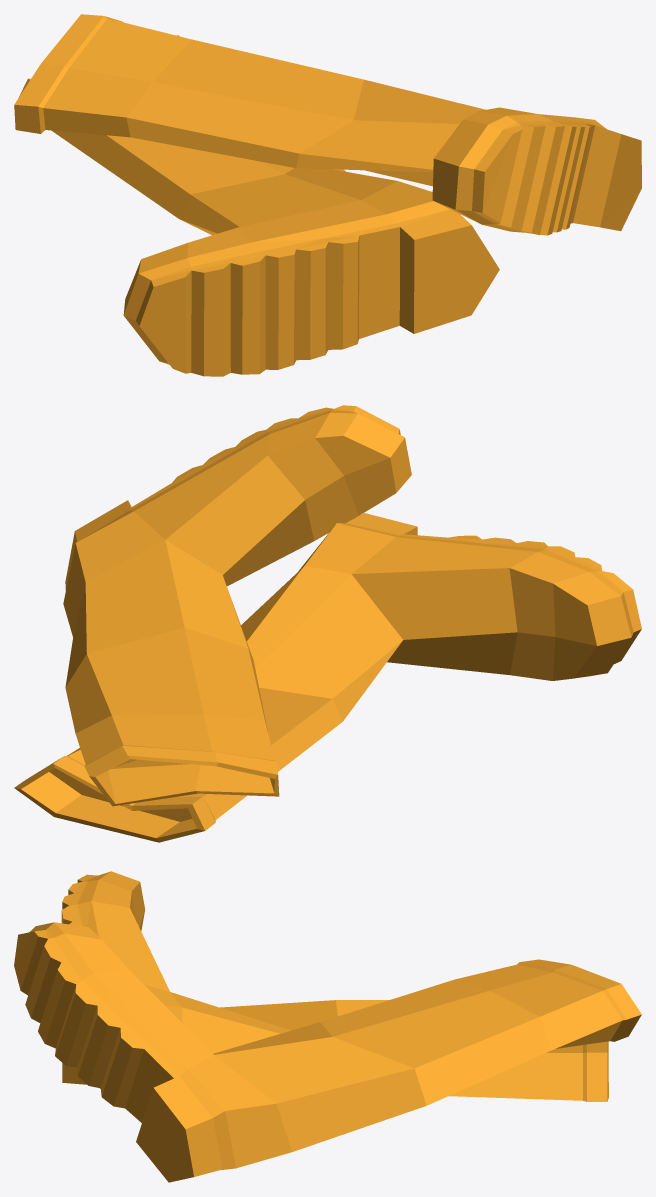
The model's file is SM_Boots_Rain_Clean_Lying.fbx.
The picture shows the model from 3 angles, top to bottom: view 1: azimuth 30°, elevation 25°; view 2: azimuth 150°, elevation 25°; view 3: azimuth 270°, elevation 25°; orthographic projection. The views are drawn at different scales.
Parts seen in each view (by area): view 1: boot-rain-clean-lying-l, boot-rain-clean-lying-r; view 2: boot-rain-clean-lying-l, boot-rain-clean-lying-r; view 3: boot-rain-clean-lying-l, boot-rain-clean-lying-r.
Part boxes in pixels (x1,y1,x2,y2): boot-rain-clean-lying-l: [14, 14, 641, 235]; boot-rain-clean-lying-r: [14, 35, 499, 376]; boot-rain-clean-lying-l: [63, 405, 411, 806]; boot-rain-clean-lying-r: [14, 513, 641, 842]; boot-rain-clean-lying-l: [14, 922, 641, 1182]; boot-rain-clean-lying-r: [61, 871, 608, 1101].
Bounding box in the file's own units: 0.4589 × 0.1582 × 0.5108.
